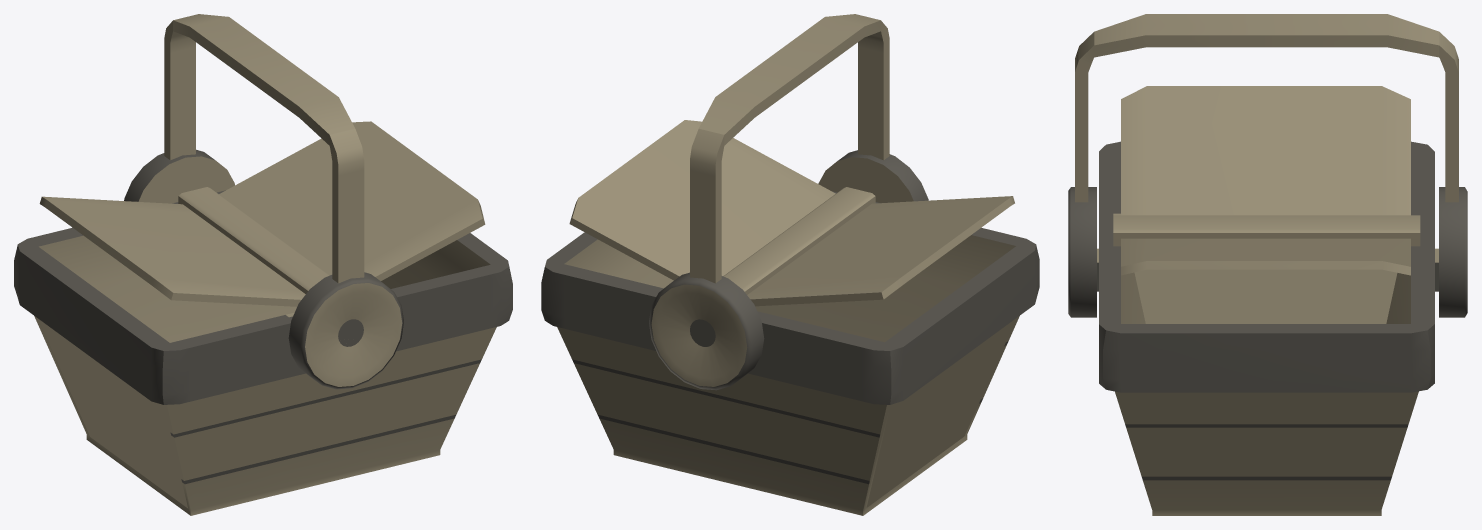
Rendered from picnicbasket.fbx.
3 renders of one model, left to right at view 1: azimuth 30°, elevation 25°; view 2: azimuth 150°, elevation 25°; view 3: azimuth 270°, elevation 25°, orthographic. The views are drawn at different scales.
Parts seen in each view (by area): view 1: picnicbasket; view 2: picnicbasket; view 3: picnicbasket.
Part boxes in pixels (left/top/right/bottom): picnicbasket: left=14, top=14, right=512, bottom=515; picnicbasket: left=541, top=14, right=1039, bottom=515; picnicbasket: left=1068, top=14, right=1467, bottom=515.
Bounding box in the file's own units: 6.88 × 7.11 × 6.06.
